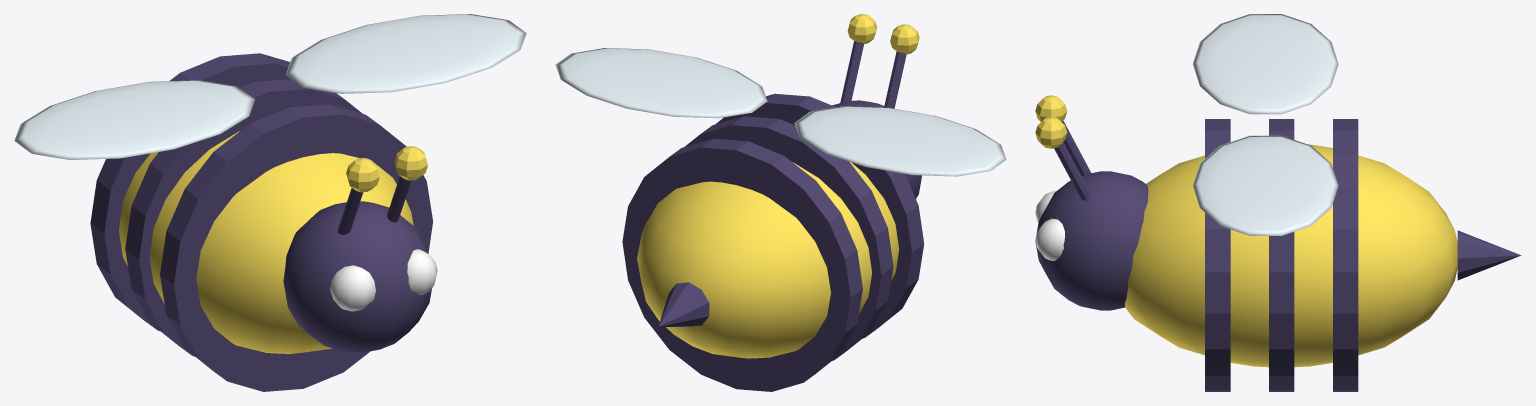
File: bee.glb
3 renders of one model, left to right at view 1: azimuth 30°, elevation 25°; view 2: azimuth 150°, elevation 25°; view 3: azimuth 270°, elevation 25°, orthographic. The views are drawn at different scales.
Visible parts, largest first — view 1: BeeBody, Wing_R, Wing_L; view 2: BeeBody, Wing_L, Wing_R; view 3: BeeBody, Wing_L, Wing_R.
Boxes of the visible parts, left/top/right/bottom form: BeeBody: left=90, top=53, right=437, bottom=391; Wing_R: left=285, top=14, right=526, bottom=93; Wing_L: left=14, top=80, right=255, bottom=159; BeeBody: left=622, top=14, right=924, bottom=391; Wing_L: left=794, top=106, right=1006, bottom=176; Wing_R: left=555, top=48, right=767, bottom=118; BeeBody: left=1035, top=95, right=1521, bottom=391; Wing_L: left=1193, top=14, right=1338, bottom=114; Wing_R: left=1193, top=135, right=1338, bottom=235.
Size of the model in its own units: 1.64 by 0.94 by 1.52.
